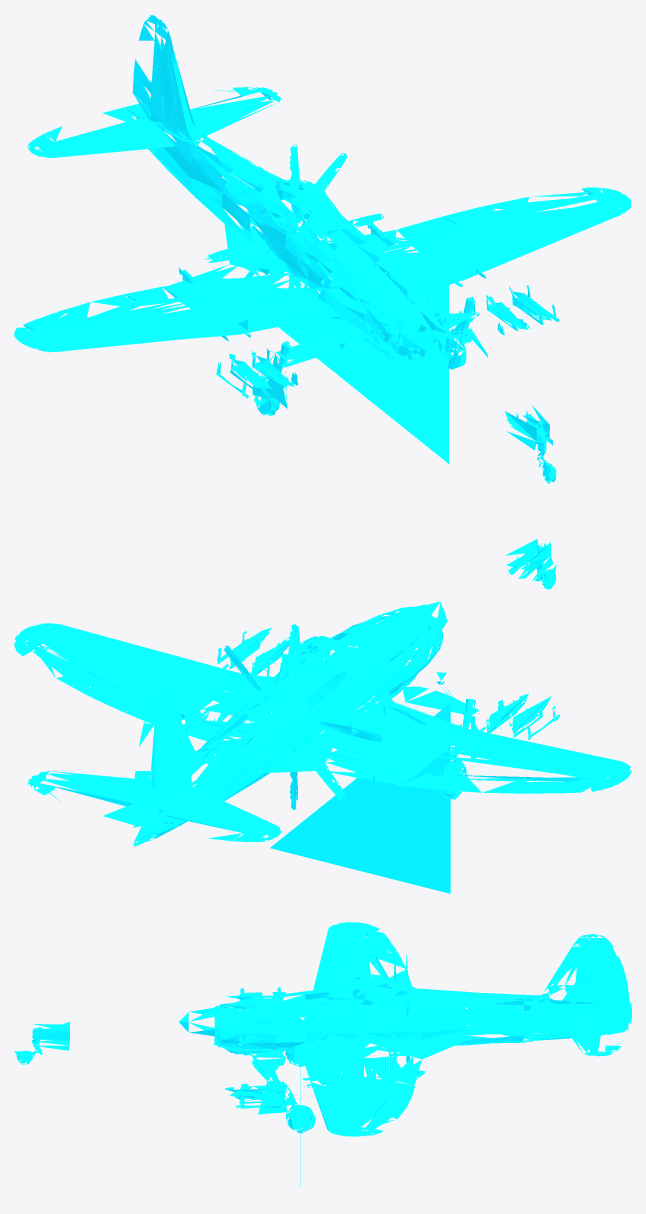
The model's file is PBAB210.glb.
3 renders of one model, top to bottom at view 1: azimuth 30°, elevation 25°; view 2: azimuth 150°, elevation 25°; view 3: azimuth 270°, elevation 25°, orthographic. The views are drawn at different scales.
Visible parts, largest first — view 1: misc; view 2: misc; view 3: misc.
Boxes of the visible parts, bbox=[...] form: misc: bbox=[14, 15, 630, 483]; misc: bbox=[14, 539, 631, 893]; misc: bbox=[14, 922, 631, 1186].
Size of the model in its own units: 0.8928 by 0.4565 by 1.09.
